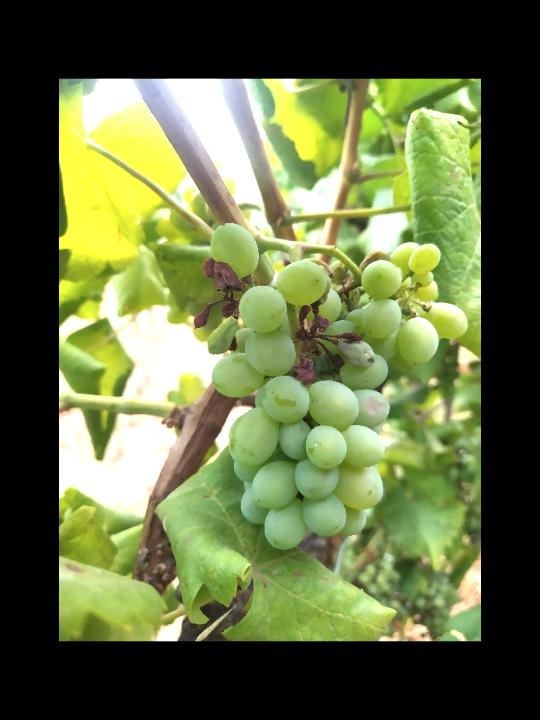grape: (191, 221, 470, 552)
